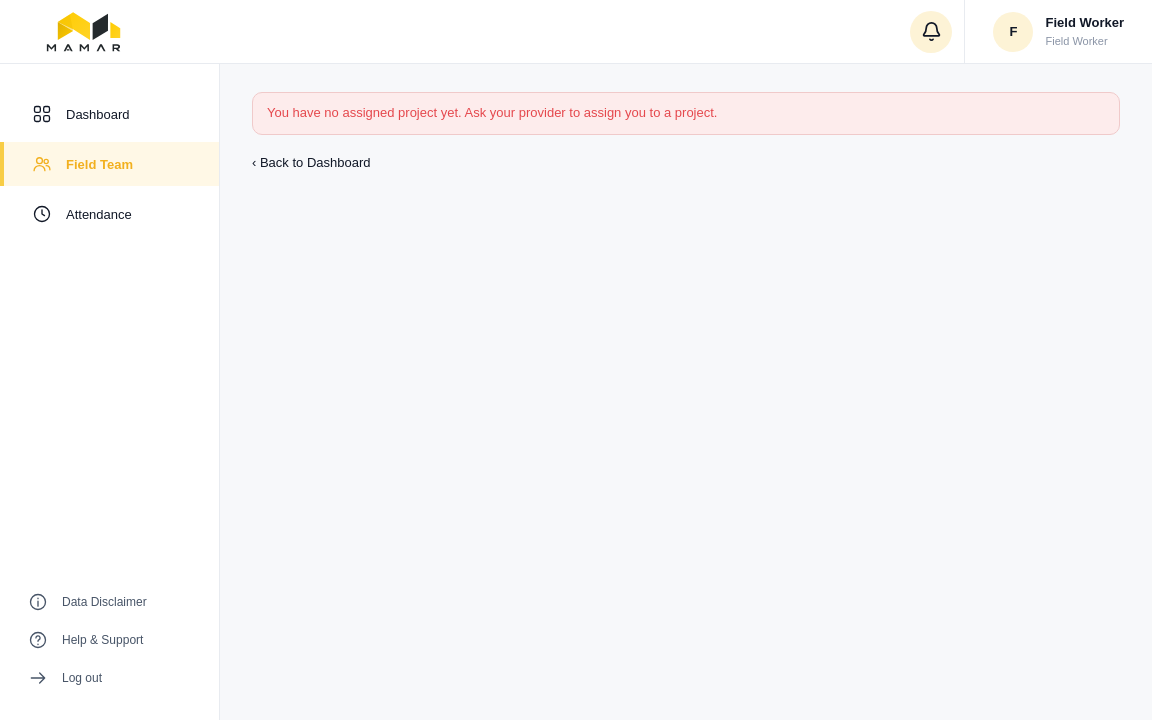
Test: FieldExecution - تحميل المشروع › بدون أي مشروع: رسالة خطأ ورابط رجوع
Expected: the message shows "You have no assigned project yet.", [267,105,718,120]
Click the link "‹ Back to Dashboard". click: (311, 162)
box: [252,155,370,170]
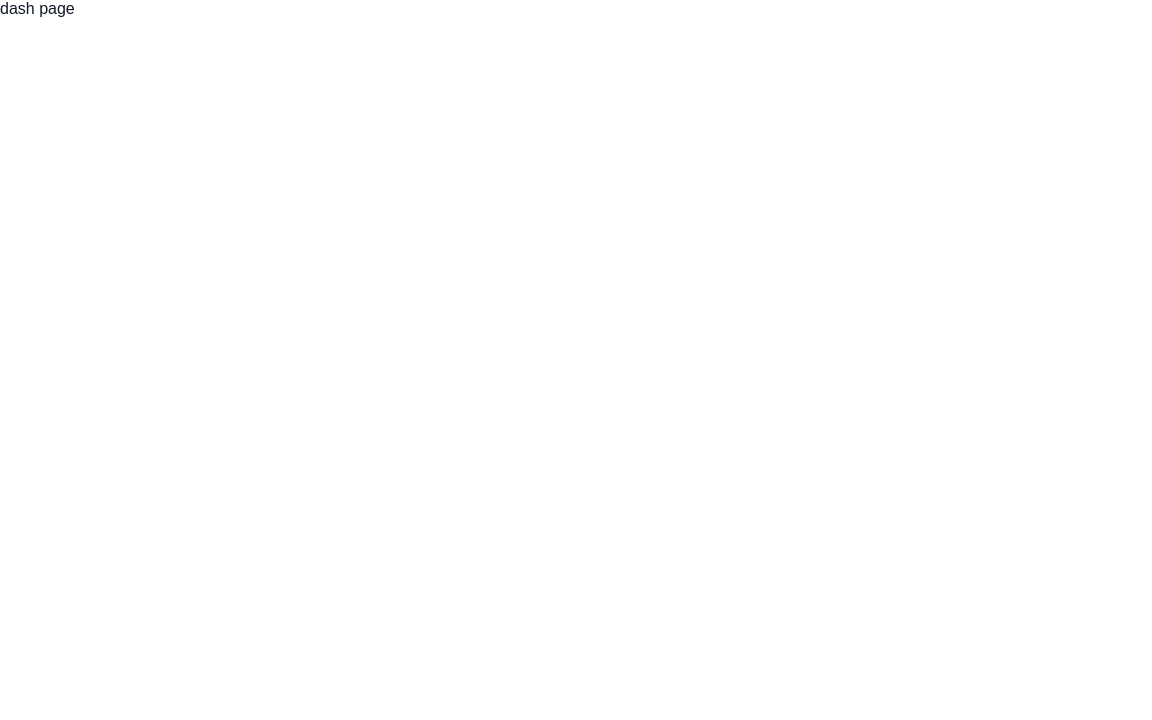
Expected: the text "dash page" is shown, [0,0,75,17]
